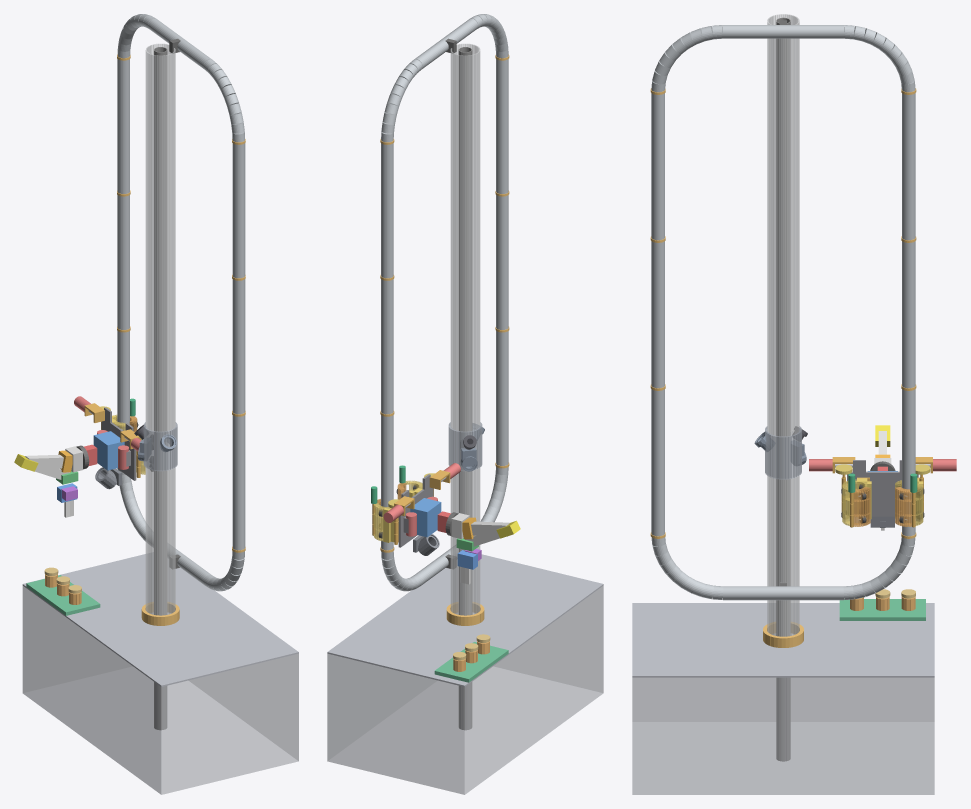
Rendered from transplant-seedling-start-v5.glb.
The picture shows the model from 3 angles, left to right: view 1: azimuth 30°, elevation 25°; view 2: azimuth 150°, elevation 25°; view 3: azimuth 270°, elevation 25°; orthographic projection. The views are drawn at different scales.
Size of the model in its own units: 0.4837 by 1.9 by 0.751.
